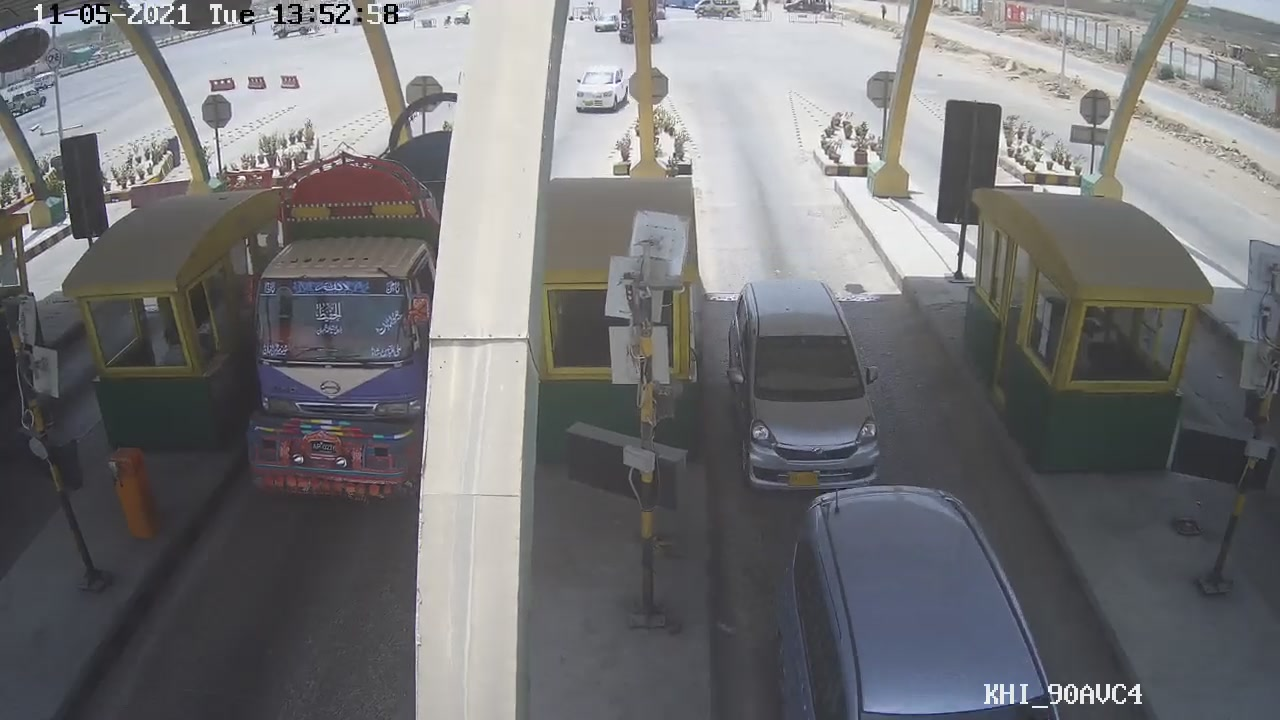F1: (717, 267, 893, 495)
